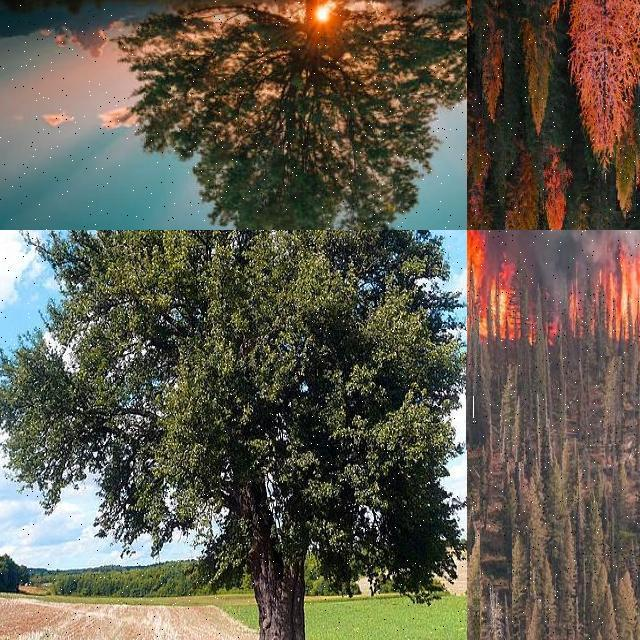tree: (0, 230, 468, 640), (135, 0, 461, 230), (530, 0, 640, 160), (505, 150, 539, 230), (530, 278, 550, 408), (466, 472, 486, 590), (500, 364, 524, 462), (556, 520, 576, 628), (612, 568, 640, 640), (482, 29, 504, 119), (512, 532, 530, 640), (603, 356, 625, 444), (542, 458, 568, 522), (467, 540, 483, 640), (583, 496, 601, 584), (544, 162, 566, 230), (467, 109, 485, 189), (467, 473, 481, 571), (467, 535, 480, 640), (466, 182, 494, 230), (616, 145, 636, 211), (467, 466, 479, 574), (468, 560, 484, 640), (467, 56, 478, 172), (467, 524, 478, 640), (467, 462, 479, 562), (467, 494, 475, 640), (580, 292, 596, 360), (468, 467, 480, 555), (562, 438, 578, 502), (467, 250, 479, 334), (468, 558, 480, 640), (467, 316, 479, 396), (526, 599, 549, 640), (467, 447, 477, 533), (467, 472, 477, 556), (467, 539, 477, 617), (466, 354, 474, 450), (468, 580, 480, 640), (468, 504, 476, 588), (495, 0, 531, 18), (467, 580, 477, 640), (468, 414, 476, 486), (467, 418, 475, 482), (467, 600, 479, 640), (467, 285, 473, 359), (468, 350, 472, 430)
